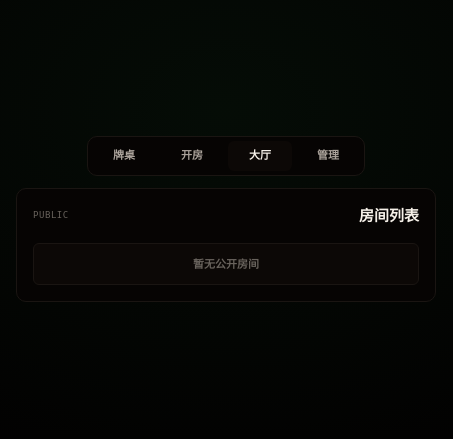
Test: App shell › lets the host kick a waiting-room player
This screenshot has width=453, height=439.
Click the button "开房" at (192, 156), box top-left (160, 141), bottom-right (224, 171)
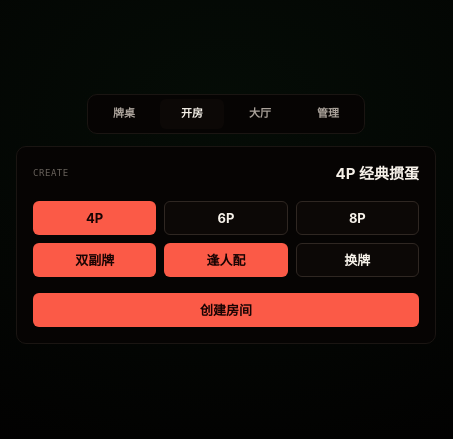
Click the button "创建房间" at (226, 310), box top-left (33, 293), bottom-right (419, 327)
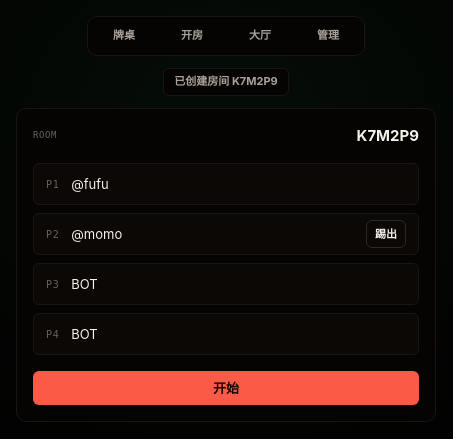
Click the button with aria-label "踢出 momo" at (386, 234), box top-left (366, 220), bottom-right (406, 248)
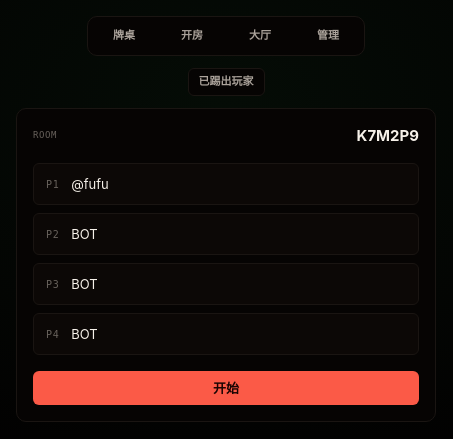
Expected: the text "@momo" is gone
